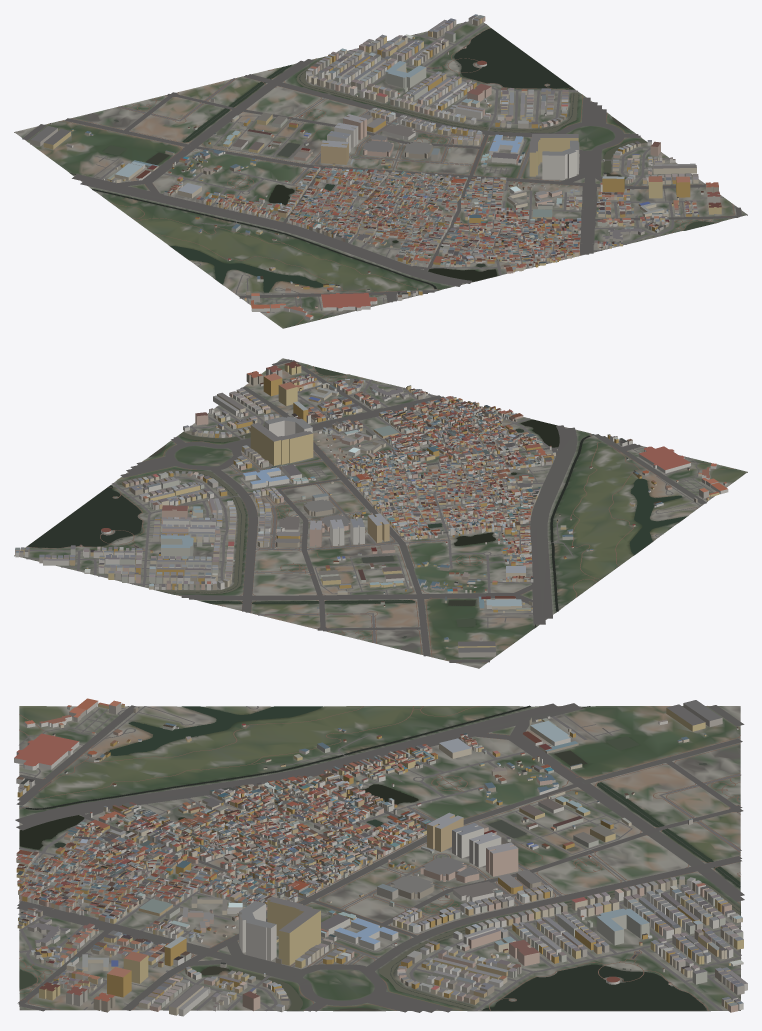
3 views of the same model, one above another, from view 1: azimuth 30°, elevation 25°; view 2: azimuth 150°, elevation 25°; view 3: azimuth 270°, elevation 25° (orthographic). The views are drawn at different scales.
Visible parts, largest first — view 1: ground, buildings, roads, water; view 2: ground, buildings, roads, water; view 3: buildings, ground, roads, water.
Part boxes in pixels (left/top/right/bottom): ground: left=14, top=21, right=747, bottom=328; buildings: left=30, top=14, right=721, bottom=319; roads: left=22, top=21, right=742, bottom=325; water: left=70, top=28, right=714, bottom=292; ground: left=14, top=358, right=747, bottom=668; buildings: left=15, top=361, right=728, bottom=659; roads: left=25, top=359, right=734, bottom=662; water: left=27, top=366, right=686, bottom=638; buildings: left=14, top=698, right=747, bottom=1016; ground: left=19, top=706, right=740, bottom=1011; roads: left=15, top=703, right=744, bottom=1012; water: left=19, top=705, right=740, bottom=1010.
Bounding box in the file's own units: 1443 × 74.62 × 1426.
